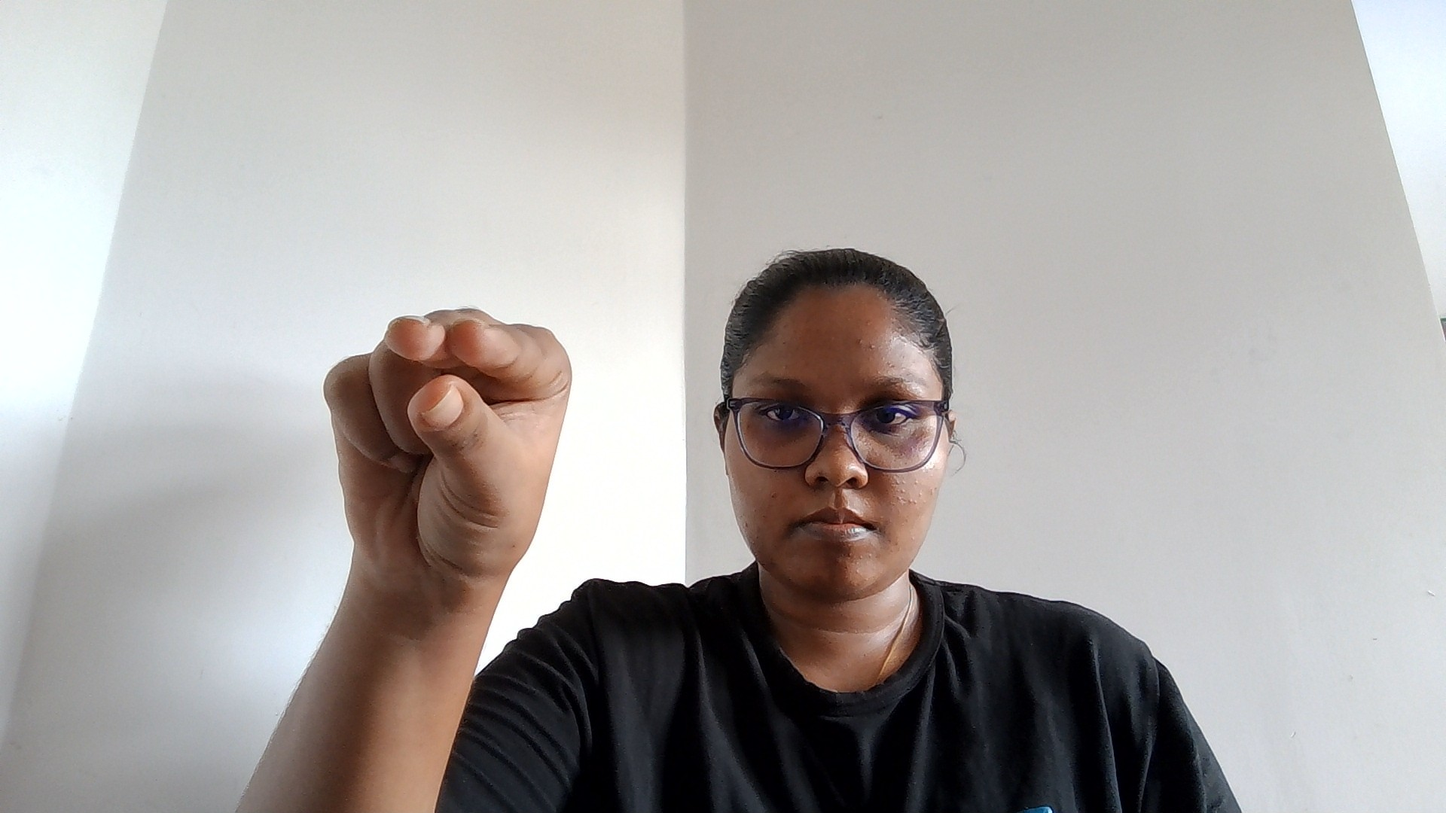No: (294, 243, 622, 629)
